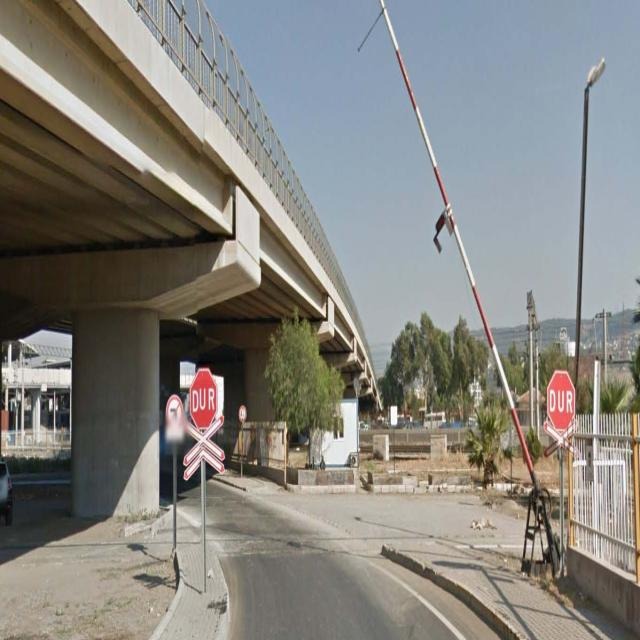dur: (188, 372, 216, 428), (548, 370, 573, 429)
soladonulmez: (167, 395, 183, 426)
